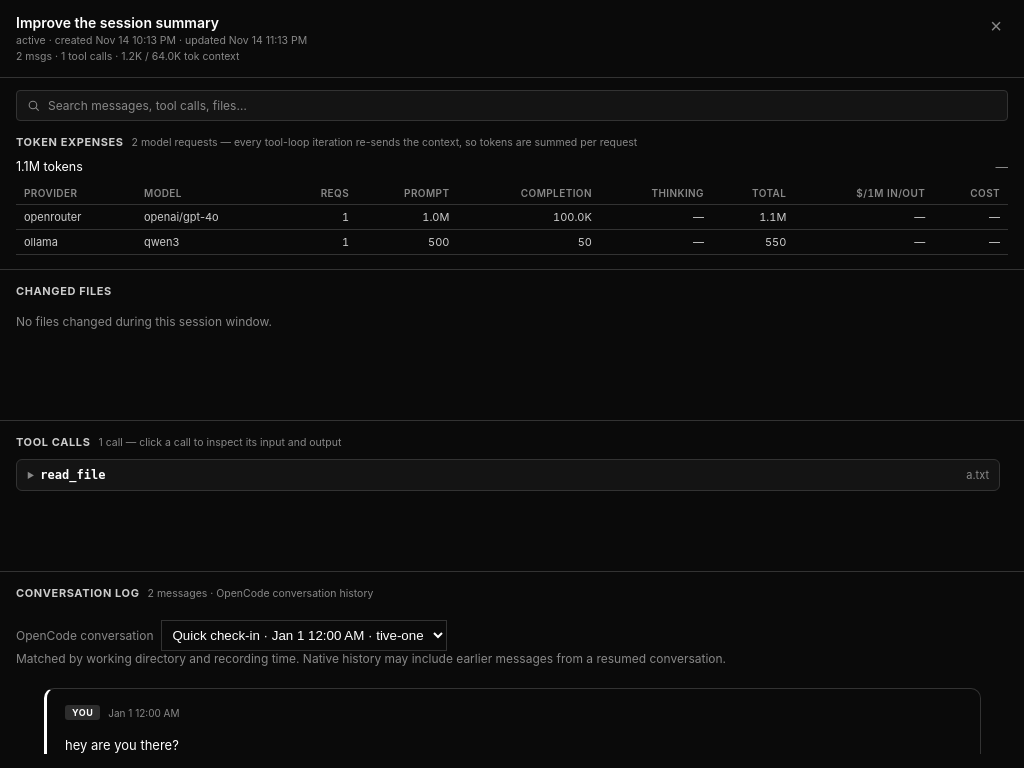
Test: shows structured OpenCode messages, reasoning and tools in Conversation log
Check: the text "hey are you there?" is shown, box left=65, top=737, right=179, bottom=753
Check: the element with class "session-summary-section-log" shows "2 messages", box left=148, top=587, right=207, bottom=600
In the field with placeholder "Search messages, tool calls, files…": [522, 106] box left=48, top=91, right=997, bottom=120, type "Checking the request"
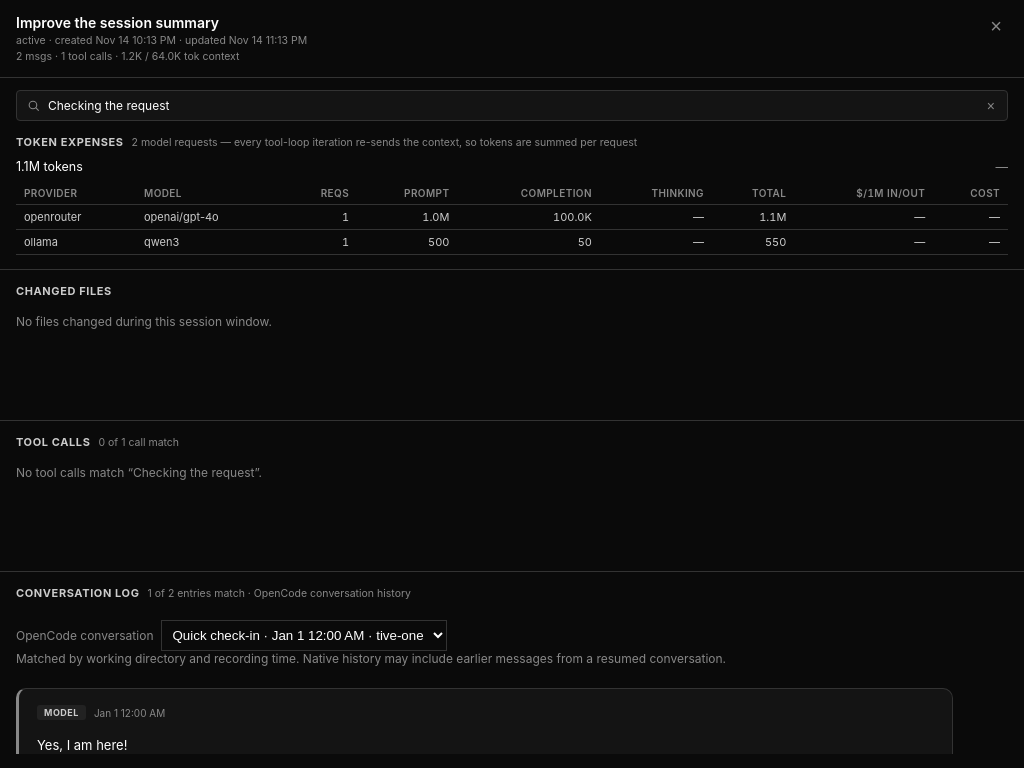
Check: the element with class "session-summary-section-log" shows "Yes, I am here!", box left=37, top=737, right=127, bottom=753
Check: the element with class "session-summary-section-log" no longer shows "hey are you there?", box left=0, top=572, right=1023, bottom=767
